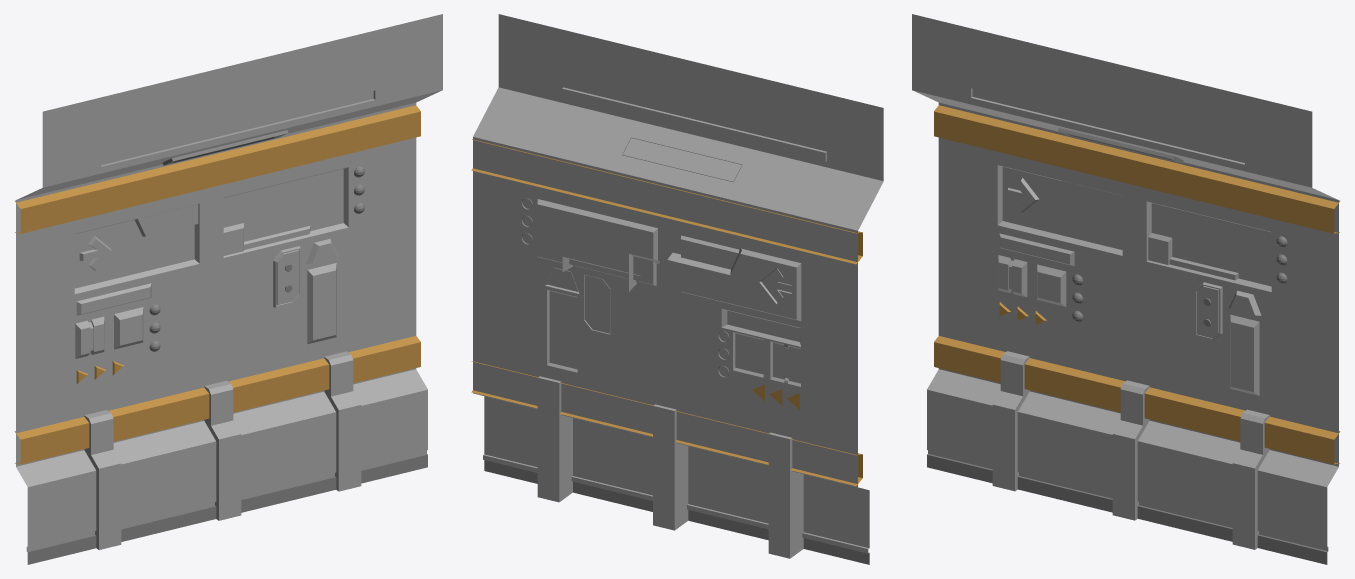
Rendered from Wall_4_GD.glb.
3 renders of one model, left to right at view 1: azimuth 30°, elevation 25°; view 2: azimuth 150°, elevation 25°; view 3: azimuth 330°, elevation 25°, orthographic. The views are drawn at different scales.
Parts seen in each view (by area): view 1: Wall_4; view 2: Wall_4; view 3: Wall_4.
Boxes of the visible parts, <box> form: Wall_4: <box>14,14,442,564</box>; Wall_4: <box>471,14,883,564</box>; Wall_4: <box>912,14,1340,564</box>.
Size of the model in its own units: 30 by 33.23 by 4.29.
